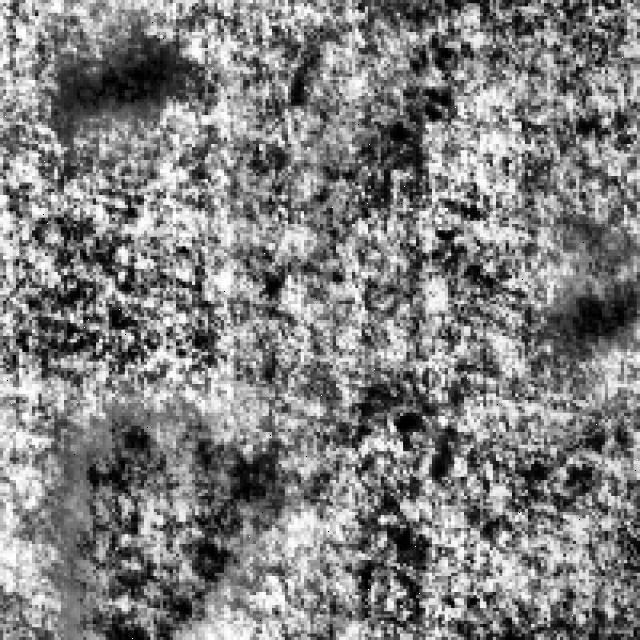Scratches: (54, 400, 288, 637), (74, 28, 188, 122), (560, 214, 640, 346)
